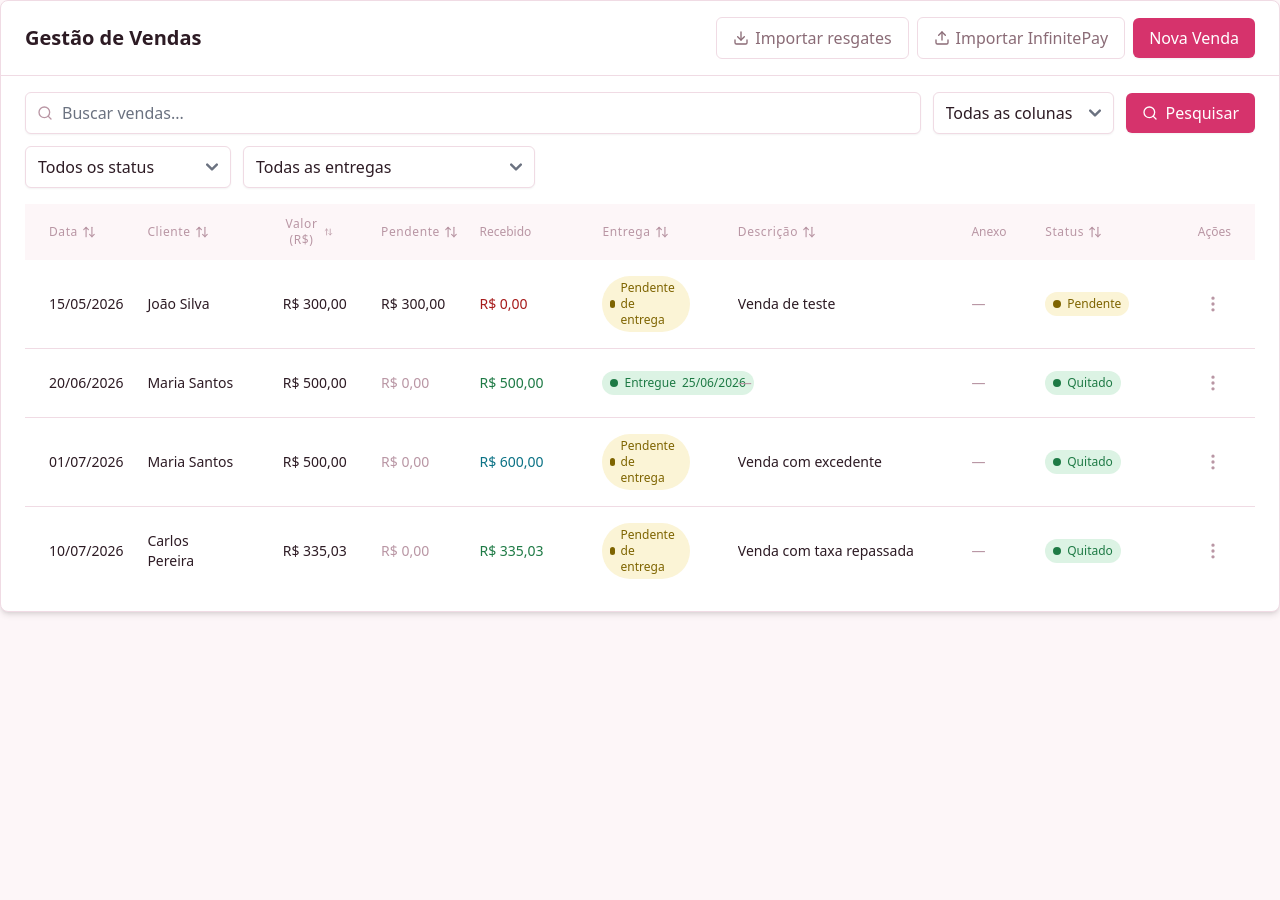
SalesPage › Sales List › should show "Registrar Pagamento" and "Detalhar Pagamentos" in the menu
Click the button named "Ações da venda" in the row of "15/05/2026" at point(1213, 304), box [1195,286,1231,322]
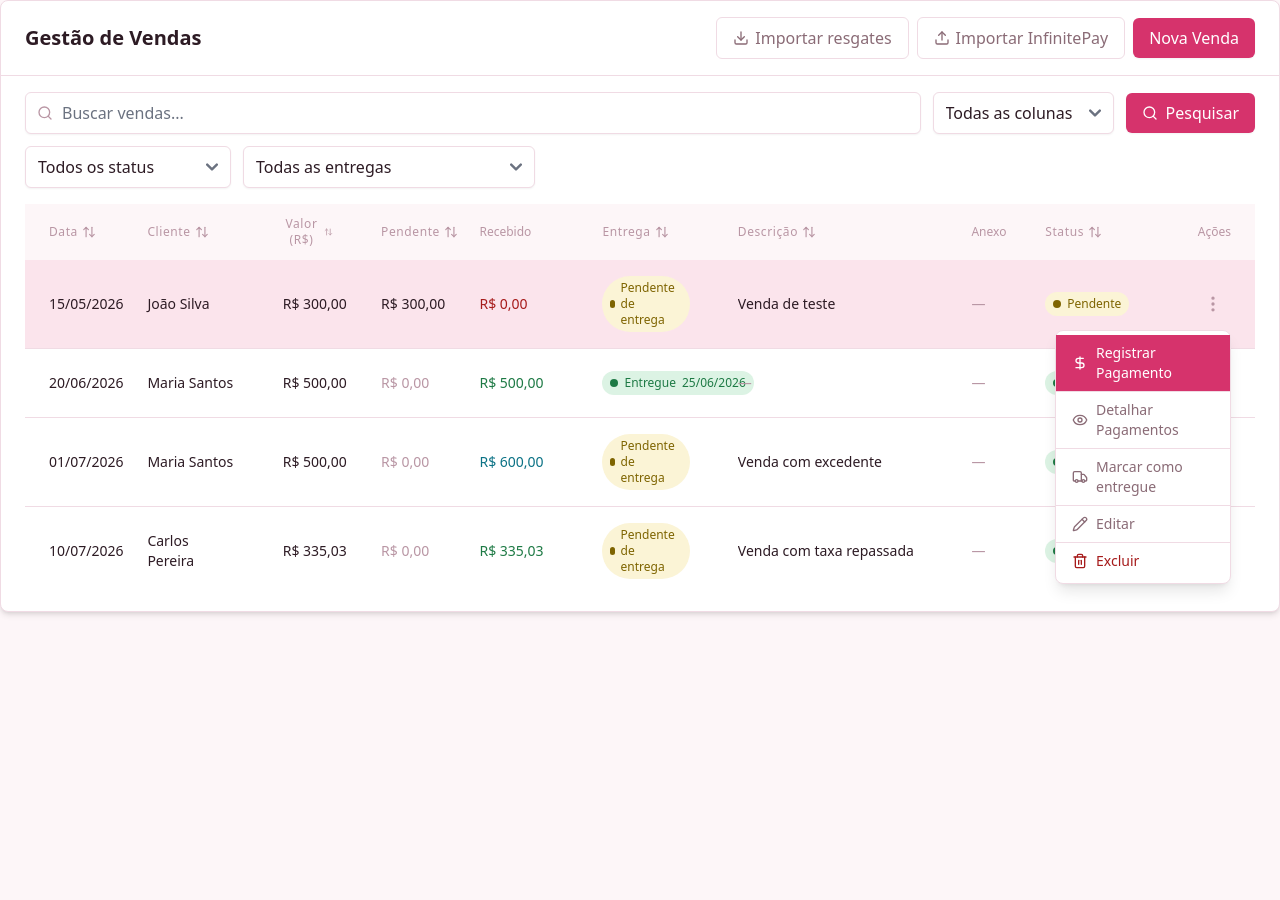
Expected: the menu item with test id "sale-actions-1-item-Registrar-Pagamento" is shown, [1056,335,1230,391]
Expected: the menu item with test id "sale-actions-1-item-Detalhar-Pagamentos" is shown, [1056,391,1230,448]
